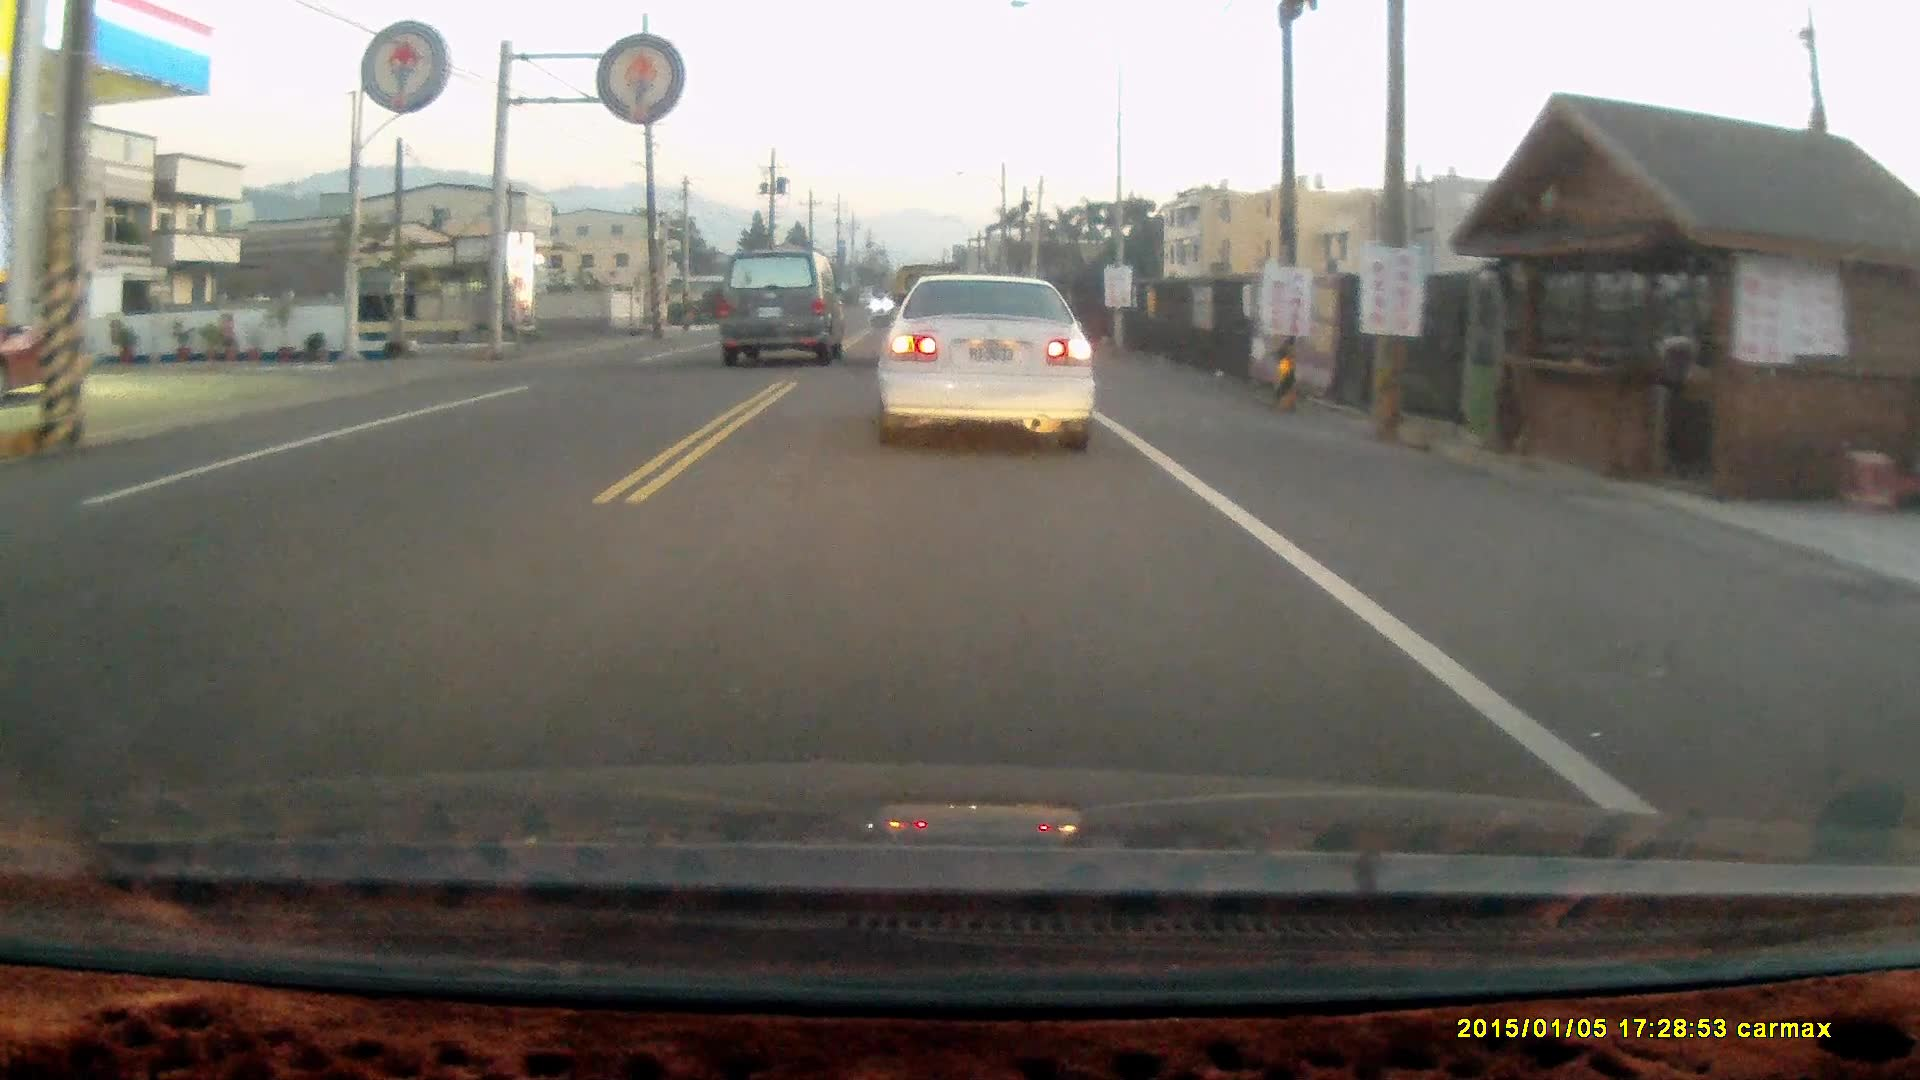pedestrian: (1659, 334, 1713, 447)
vehicle: (872, 273, 1098, 460), (712, 249, 846, 372), (1, 298, 74, 397)
